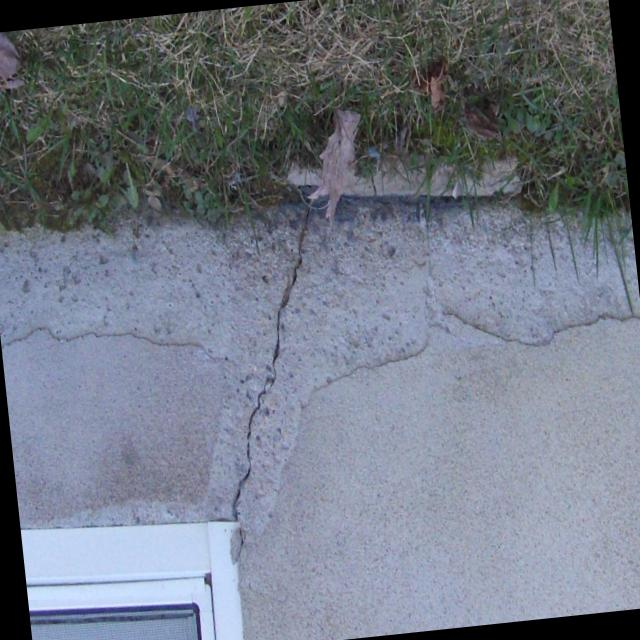crack: (229, 205, 310, 523)
